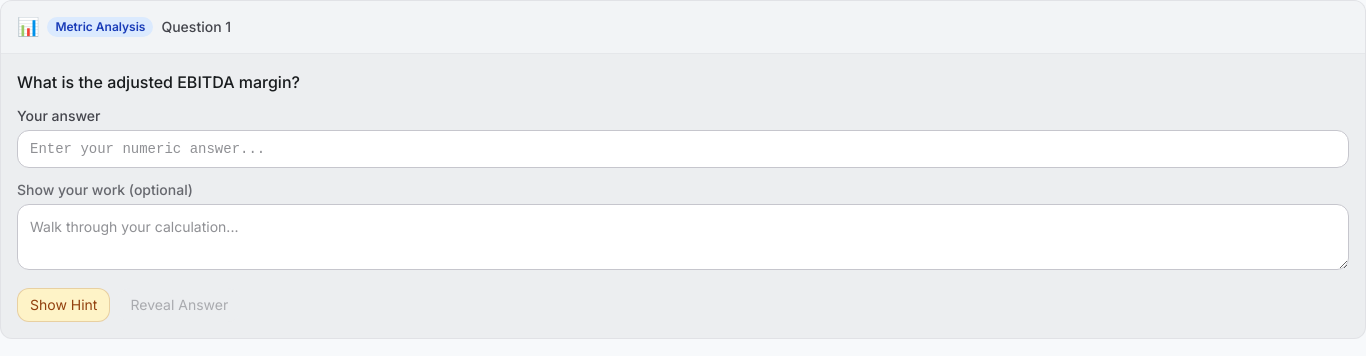
Scenario: QuestionCard commit-first gating (quantitative) › re-disables Reveal Answer when the number is cleared
In the number field with placeholder "Enter your numeric answer...": [683, 149] box x1=17 y1=130 x2=1349 y2=168, type "16.9"
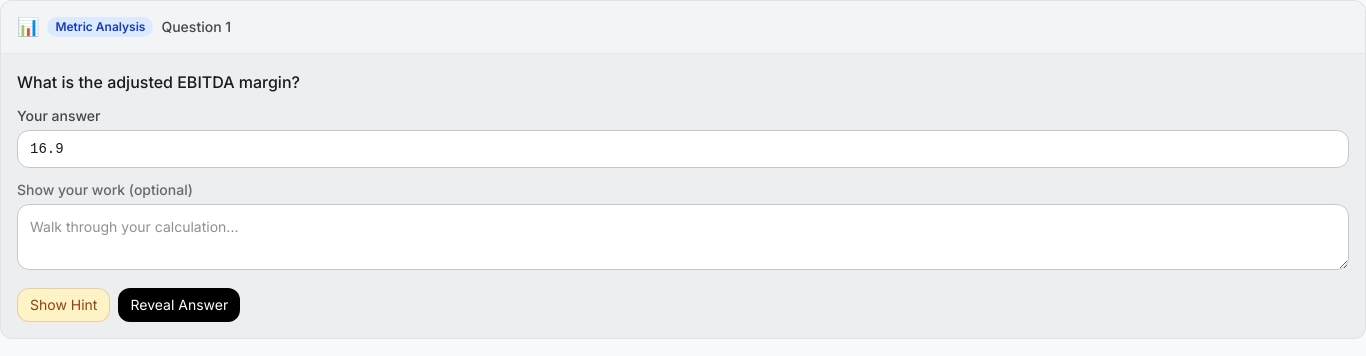
Clear the number field with placeholder "Enter your numeric answer...": [683, 149] box x1=17 y1=130 x2=1349 y2=168
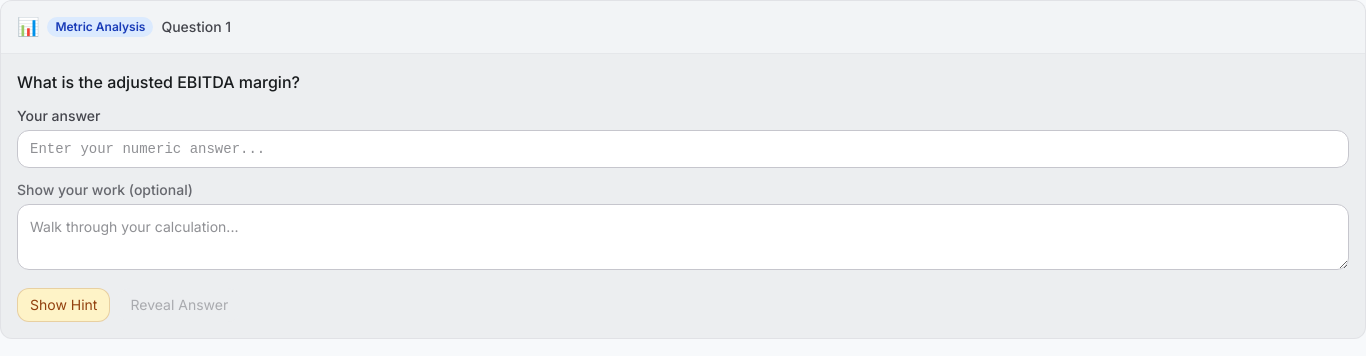
Check: the button "Reveal Answer" is disabled, box x1=118 y1=288 x2=240 y2=322
